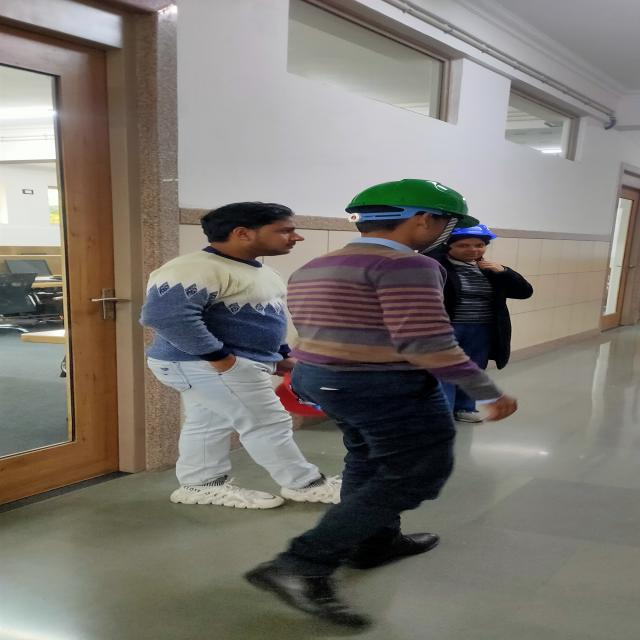no jacket: (240, 176, 470, 634), (441, 224, 514, 356)
unsafe: (150, 203, 299, 506)
